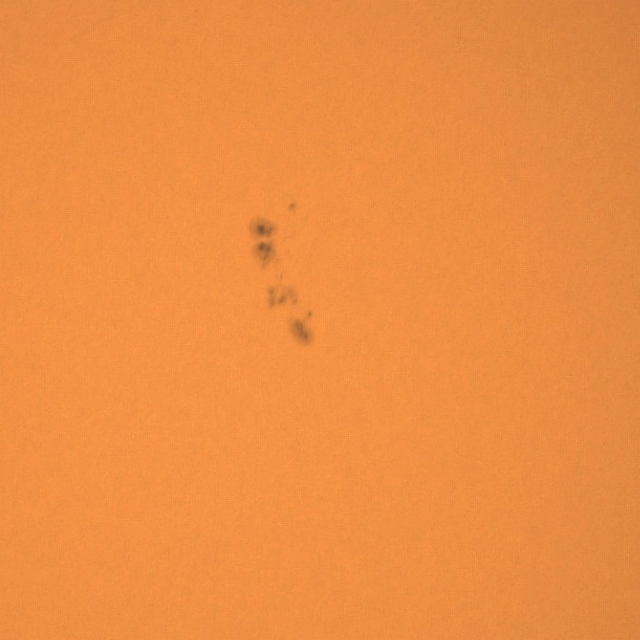sunspot: (266, 284, 314, 332), (253, 219, 278, 268), (265, 276, 301, 310), (290, 306, 315, 346), (287, 201, 298, 214)
